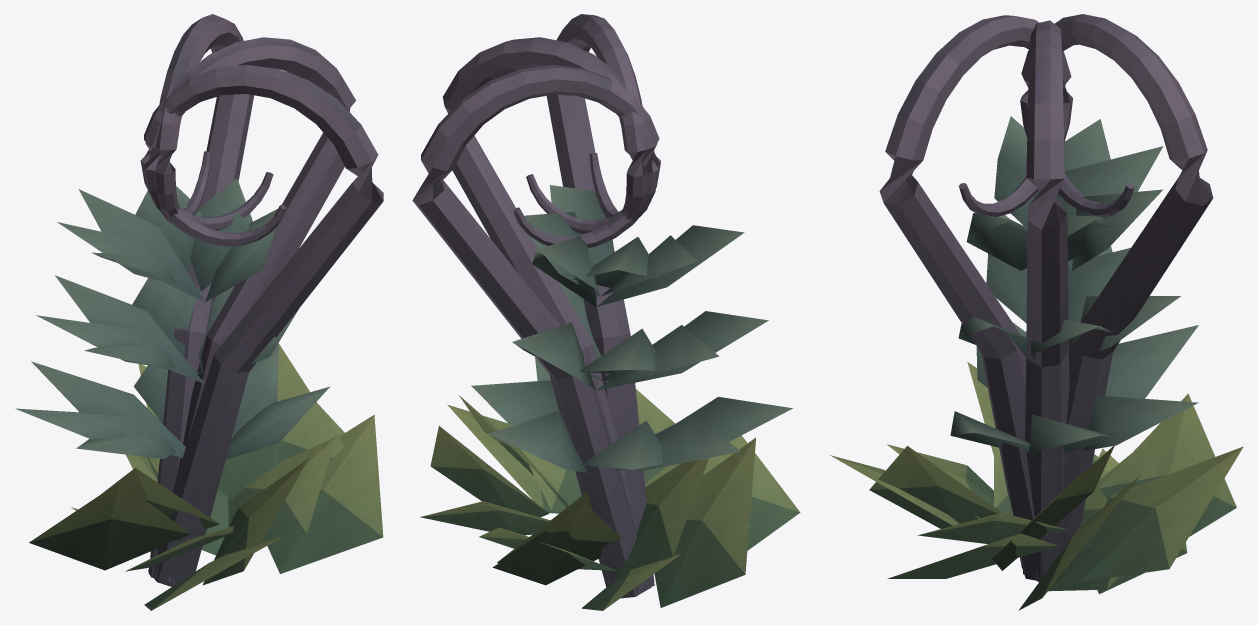
The model's file is forest_spiral_fern.glb.
3 renders of one model, left to right at view 1: azimuth 30°, elevation 25°; view 2: azimuth 150°, elevation 25°; view 3: azimuth 270°, elevation 25°, orthographic. The views are drawn at different scales.
Visible parts, largest first — view 1: Dream fern curled frond, Dream fern curled frond.001, Dream fern curled frond.002, Woodland shared curved ivy leaf.025, Woodland shared curved ivy leaf.024, Woodland shared curved ivy leaf.020, Woodland shared curved ivy leaf.017, Dream fern teal leaflet, Woodland shared curved ivy leaf.022, Dream fern teal leaflet.002, Dream fern teal leaflet.004, Dream fern teal leaflet.001 (+16 smaller); view 2: Dream fern curled frond.002, Dream fern curled frond.001, Dream fern curled frond, Woodland shared curved ivy leaf.024, Woodland shared curved ivy leaf.016, Woodland shared curved ivy leaf.028, Woodland shared curved ivy leaf.018, Dream fern teal leaflet.013, Woodland shared curved ivy leaf.027, Dream fern teal leaflet.006, Dream fern teal leaflet.007, Dream fern teal leaflet.016 (+20 smaller); view 3: Dream fern curled frond, Dream fern curled frond.002, Dream fern curled frond.001, Woodland shared curved ivy leaf.023, Woodland shared curved ivy leaf.026, Woodland shared curved ivy leaf.022, Dream fern teal leaflet, Dream fern teal leaflet.013, Dream fern teal leaflet.004, Woodland shared curved ivy leaf.020, Woodland shared curved ivy leaf.025, Dream fern teal leaflet.005 (+19 smaller).
Part boxes in pixels (bbox=[...]): Dream fern curled frond: bbox=[140, 65, 383, 586]; Dream fern curled frond.001: bbox=[143, 37, 355, 584]; Dream fern curled frond.002: bbox=[148, 14, 253, 580]; Woodland shared curved ivy leaf.025: bbox=[267, 414, 383, 573]; Woodland shared curved ivy leaf.024: bbox=[29, 482, 191, 570]; Woodland shared curved ivy leaf.020: bbox=[218, 343, 344, 500]; Woodland shared curved ivy leaf.017: bbox=[228, 436, 336, 542]; Dream fern teal leaflet: bbox=[31, 361, 185, 458]; Woodland shared curved ivy leaf.022: bbox=[202, 458, 309, 585]; Dream fern teal leaflet.002: bbox=[55, 275, 204, 383]; Dream fern teal leaflet.004: bbox=[78, 189, 204, 301]; Dream fern teal leaflet.001: bbox=[226, 386, 330, 459]; Dream fern curled frond.002: bbox=[412, 65, 660, 598]; Dream fern curled frond.001: bbox=[443, 37, 658, 592]; Dream fern curled frond: bbox=[546, 14, 654, 590]; Woodland shared curved ivy leaf.024: bbox=[654, 437, 756, 607]; Woodland shared curved ivy leaf.016: bbox=[615, 458, 708, 576]; Woodland shared curved ivy leaf.028: bbox=[430, 426, 549, 517]; Woodland shared curved ivy leaf.018: bbox=[492, 503, 622, 585]; Dream fern teal leaflet.013: bbox=[488, 410, 587, 472]; Woodland shared curved ivy leaf.027: bbox=[724, 435, 800, 550]; Dream fern teal leaflet.006: bbox=[634, 414, 740, 471]; Dream fern teal leaflet.007: bbox=[471, 380, 558, 425]; Dream fern teal leaflet.016: bbox=[597, 225, 744, 306]; Dream fern curled frond: bbox=[879, 15, 1072, 580]; Dream fern curled frond.002: bbox=[1020, 14, 1213, 579]; Dream fern curled frond.001: bbox=[1023, 20, 1069, 581]; Woodland shared curved ivy leaf.023: bbox=[1080, 446, 1243, 581]; Woodland shared curved ivy leaf.026: bbox=[1098, 393, 1236, 536]; Woodland shared curved ivy leaf.022: bbox=[869, 446, 1002, 528]; Dream fern teal leaflet: bbox=[1105, 325, 1198, 398]; Dream fern teal leaflet.013: bbox=[1084, 395, 1198, 450]; Dream fern teal leaflet.004: bbox=[1022, 146, 1163, 270]; Woodland shared curved ivy leaf.020: bbox=[992, 444, 1115, 570]; Woodland shared curved ivy leaf.025: bbox=[887, 533, 1058, 578]; Dream fern teal leaflet.005: bbox=[966, 213, 1027, 270].
Bounding box in the file's own units: 0.5494 × 0.8287 × 0.5371.
4 materials, 4 textured.
